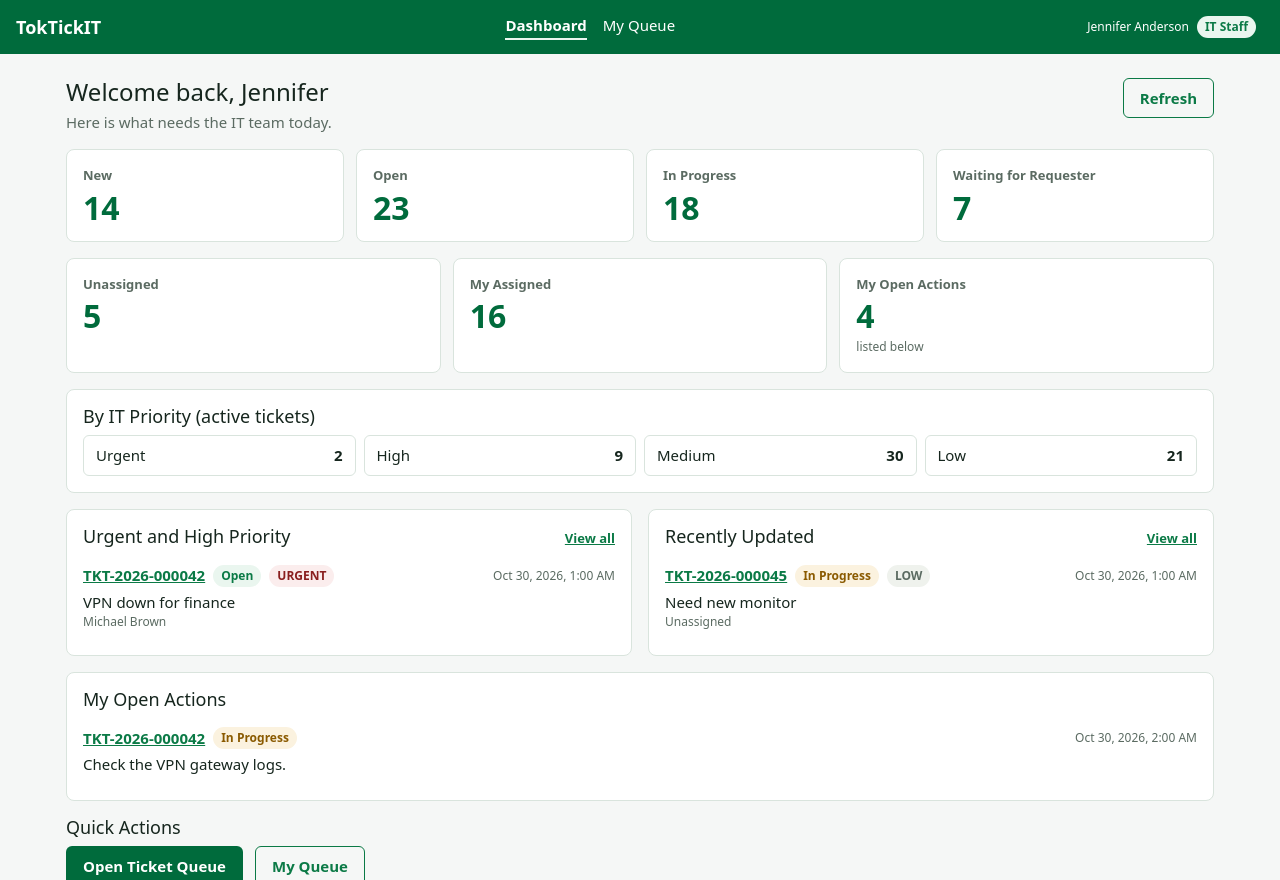
it: IT Staff Dashboard › UI-03: a failed Refresh keeps the figures on screen and warns
Check: the link with aria-label "New: 14, view tickets" is shown, box top-left (66, 149), bottom-right (344, 242)
What coordinates should you click on to do the following:
click the button "Refresh"
I would click on:
 (1168, 98)
Its box is top-left (1123, 78), bottom-right (1214, 118).
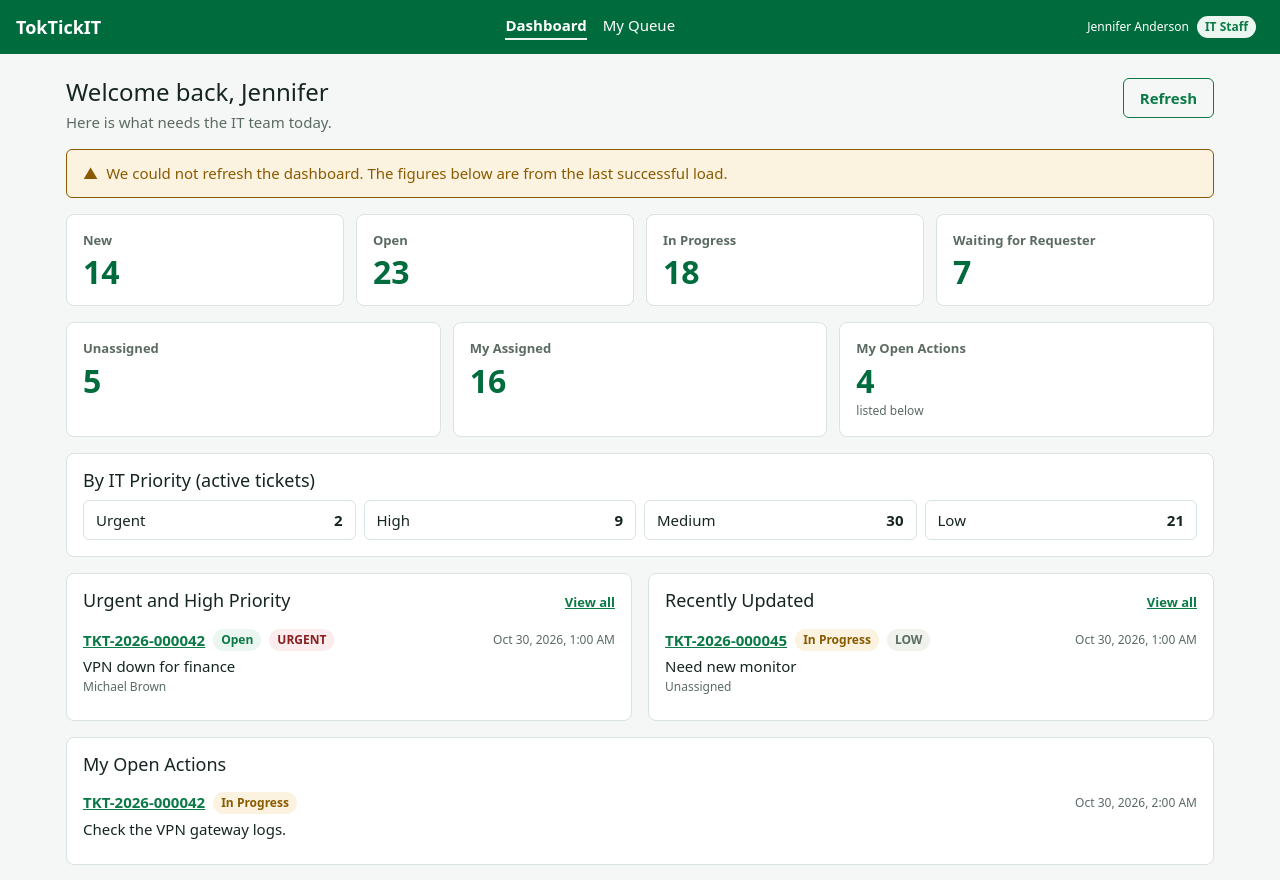
Check: the link with aria-label "New: 14, view tickets" is shown, box top-left (66, 214), bottom-right (344, 306)
Check: the text "could not refresh the dashboard" is shown, box top-left (106, 163), bottom-right (728, 183)
